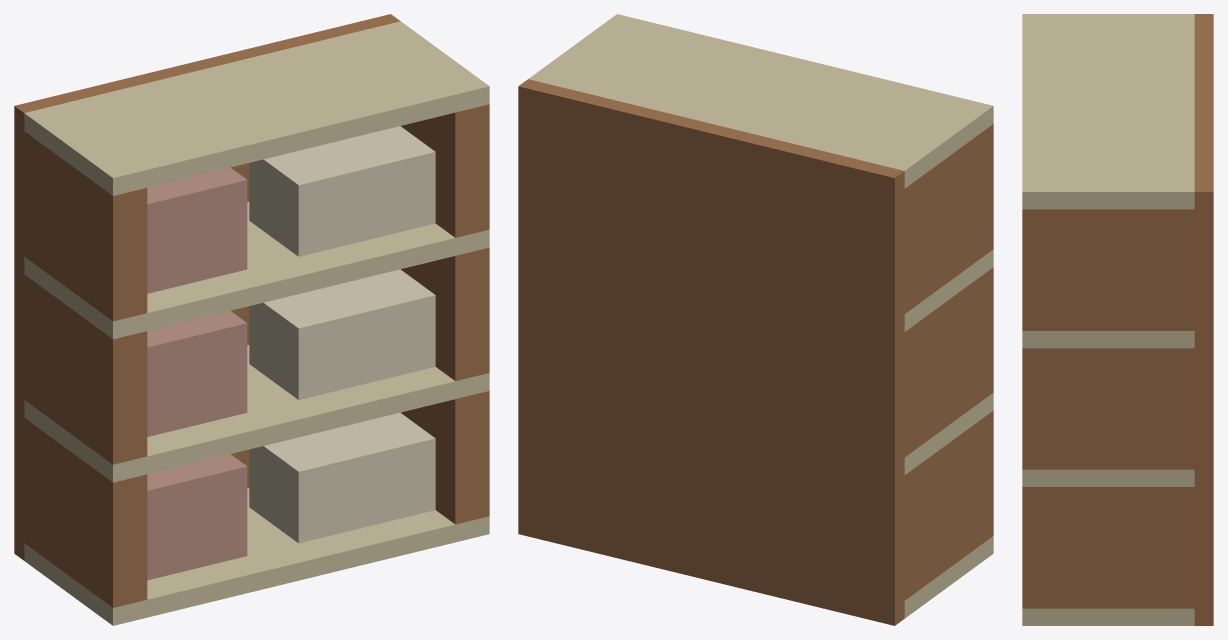
Rendered from art-12.glb.
3 renders of one model, left to right at view 1: azimuth 30°, elevation 25°; view 2: azimuth 150°, elevation 25°; view 3: azimuth 270°, elevation 25°, orthographic. The views are drawn at different scales.
Parts seen in each view (by area): view 1: Print rack; view 2: Print rack; view 3: Print rack.
Boxes of the visible parts, box(x1,y1,x2,y2) form: Print rack: box(14, 14, 489, 625); Print rack: box(518, 14, 993, 625); Print rack: box(1022, 14, 1213, 625).
Size of the model in its own units: 1.76 by 2 by 0.8.
